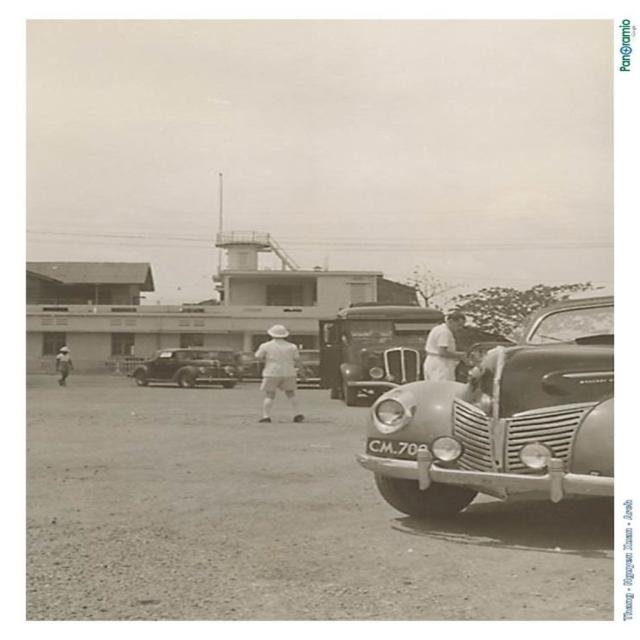car: (358, 304, 609, 524), (122, 347, 242, 398), (290, 347, 322, 381)
